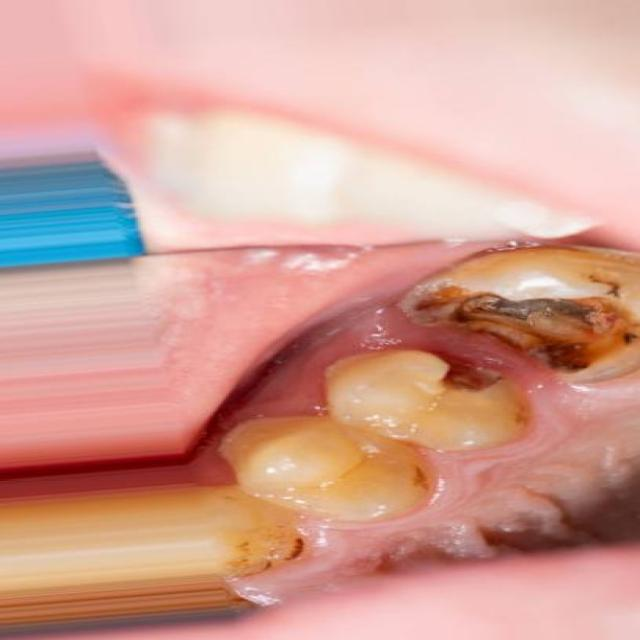caries: (411, 266, 640, 369), (406, 342, 526, 411)
